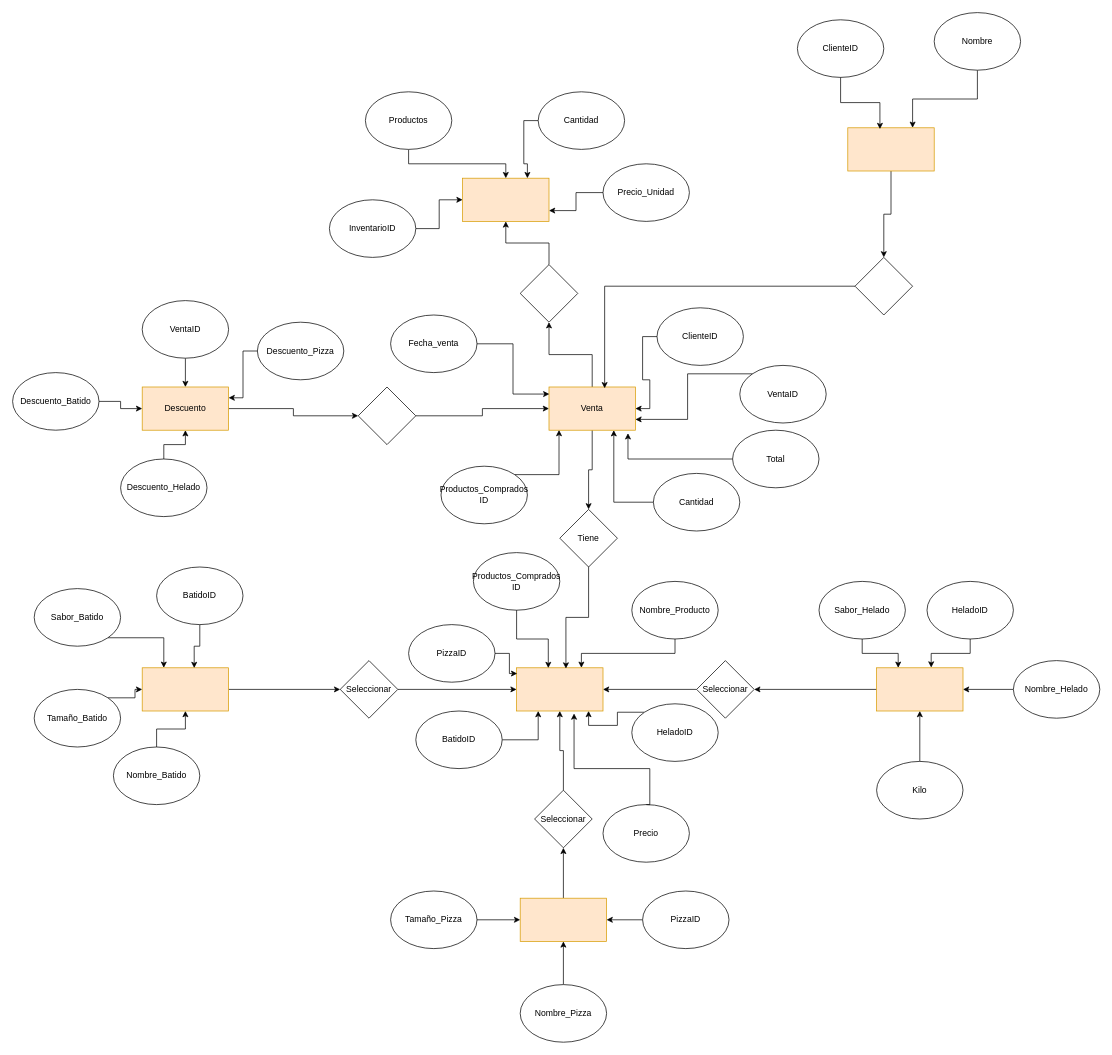
Some shapes in this 1112 by 1055 pixel diagram are drawn without their labels. The shapes that lost their labels are listed below. From the top down, each one's box as (x1, y1, x2, y2) in pixels, then its label:
(847, 127, 934, 171): Cliente
(462, 177, 549, 221): Inventario
(519, 264, 578, 322): Actualizar
(854, 257, 913, 315): Pedir
(357, 386, 416, 445): Tener
(141, 667, 229, 711): Batido
(516, 667, 603, 711): Productos_Comprados
(876, 667, 963, 711): Helado
(519, 897, 607, 941): Pizza
